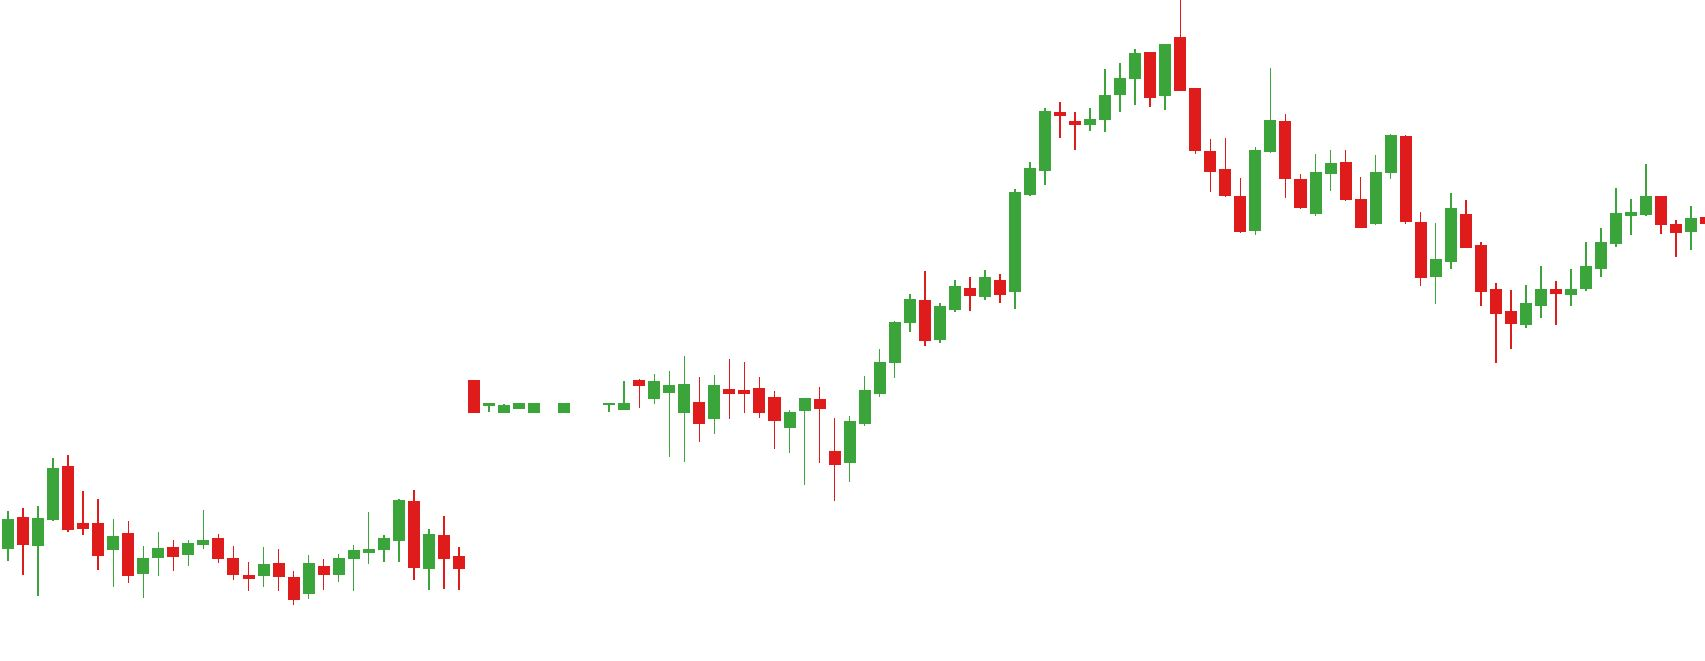sell: (1323, 132, 1414, 207)
